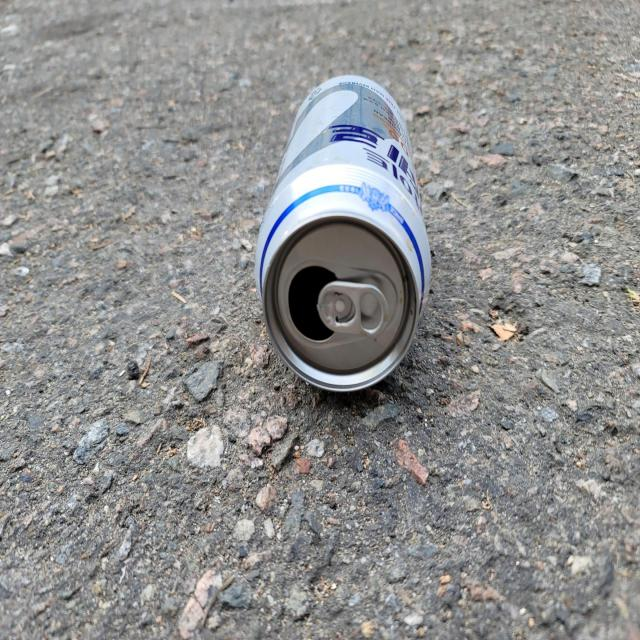can: (255, 75, 432, 391)
